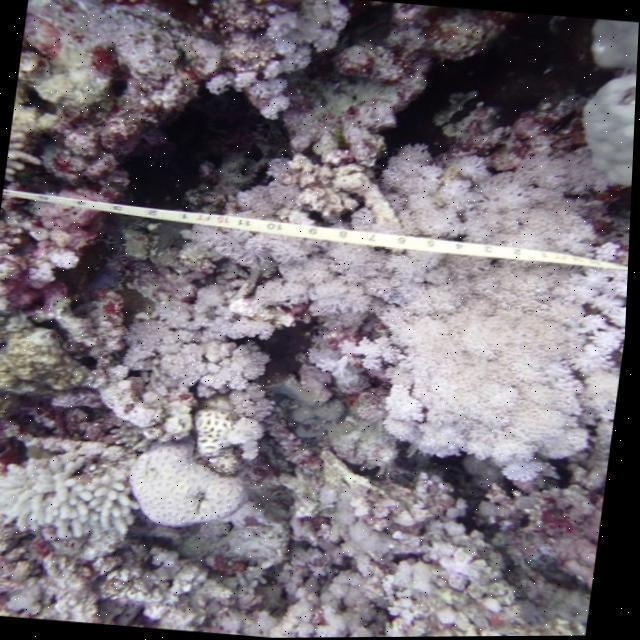Bleached Coral: (384, 154, 635, 493), (118, 459, 507, 639), (202, 127, 442, 358), (118, 242, 310, 429), (172, 0, 372, 125), (0, 450, 138, 555)
